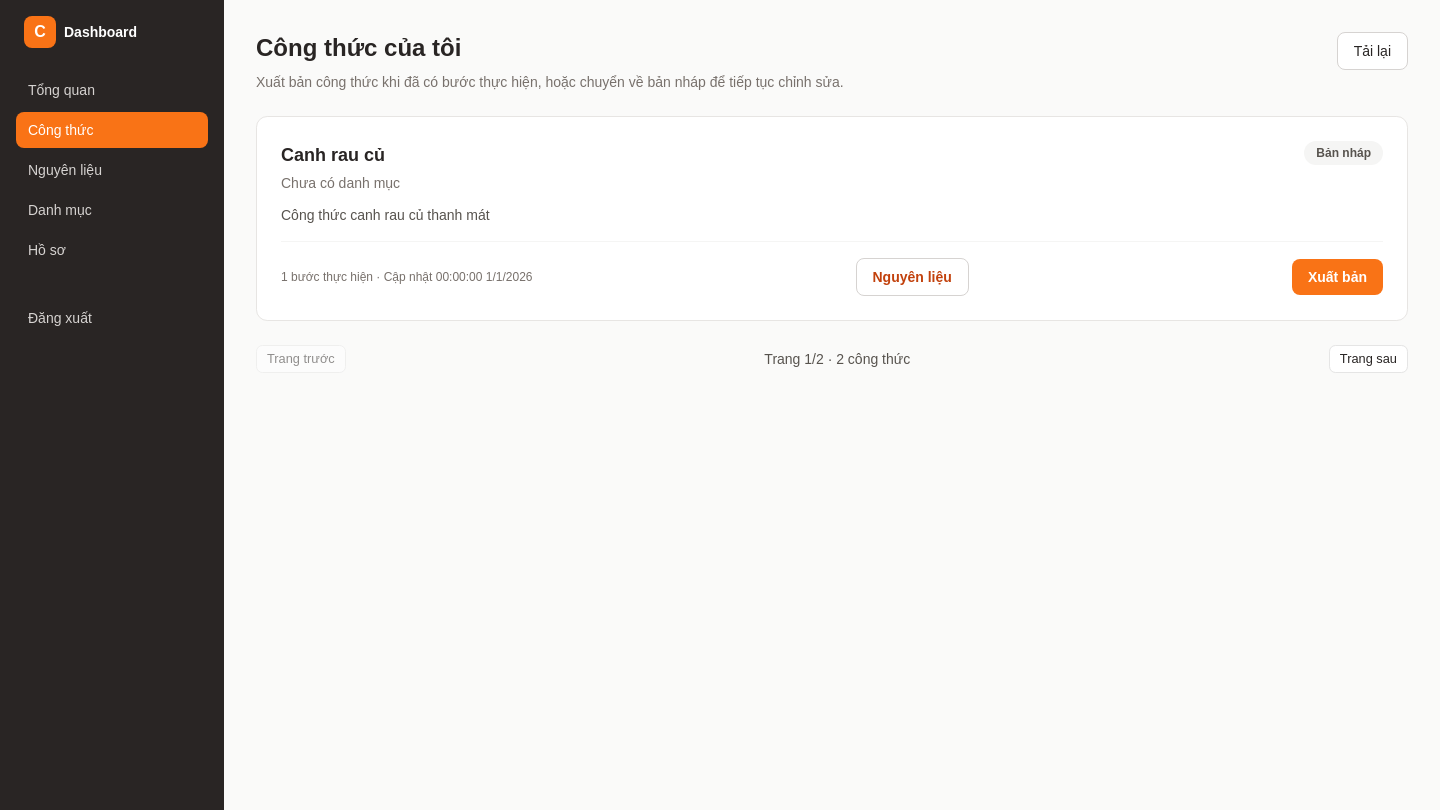
Scenario: Recipe management through UI and API client › paginates using the protected management API
The width and height of the screenshot is (1440, 810).
Click the button "Trang sau" at (1368, 359), box [1329,345,1408,373]
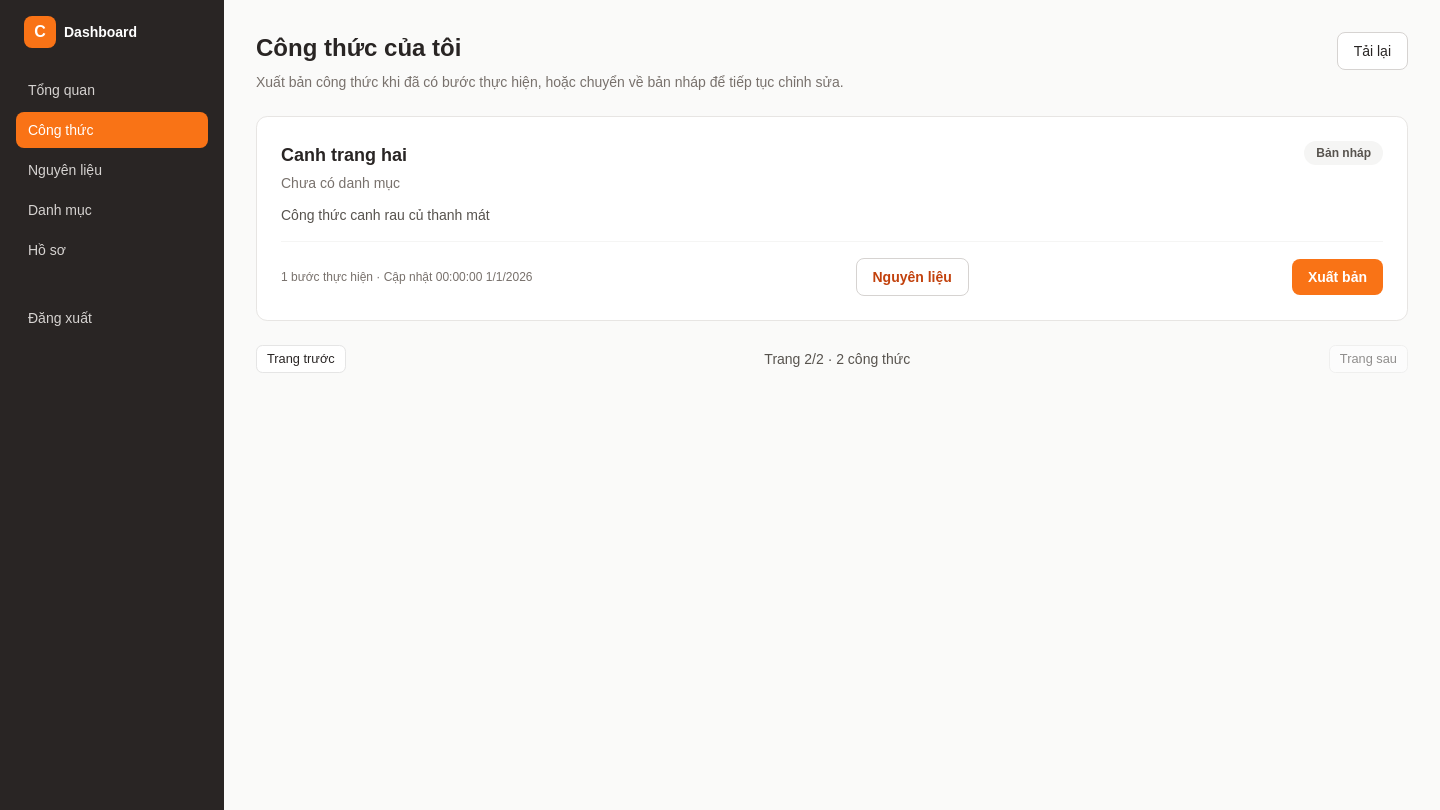
Result: the heading "Canh trang hai" is shown at [281,145,407,165]
